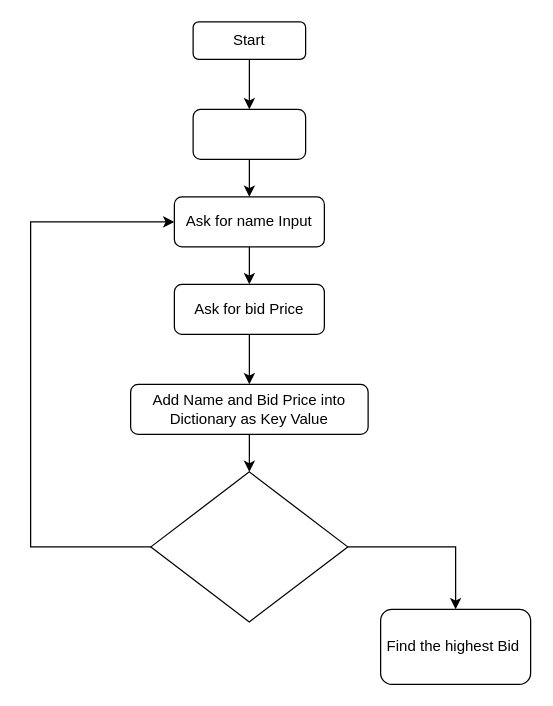
Image size: 553x706. Some labels were removed from this diagram. The centre of each missing label's shape, as x and y in pixels:
"Ask if any other person wants to Bid" goes at pixel 249 546.
"Display Logo" goes at pixel 249 133.
